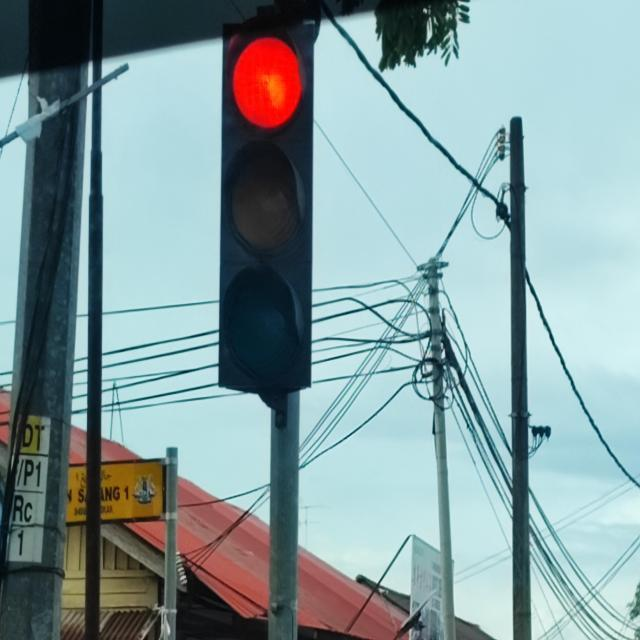red_light: (218, 24, 314, 388)
